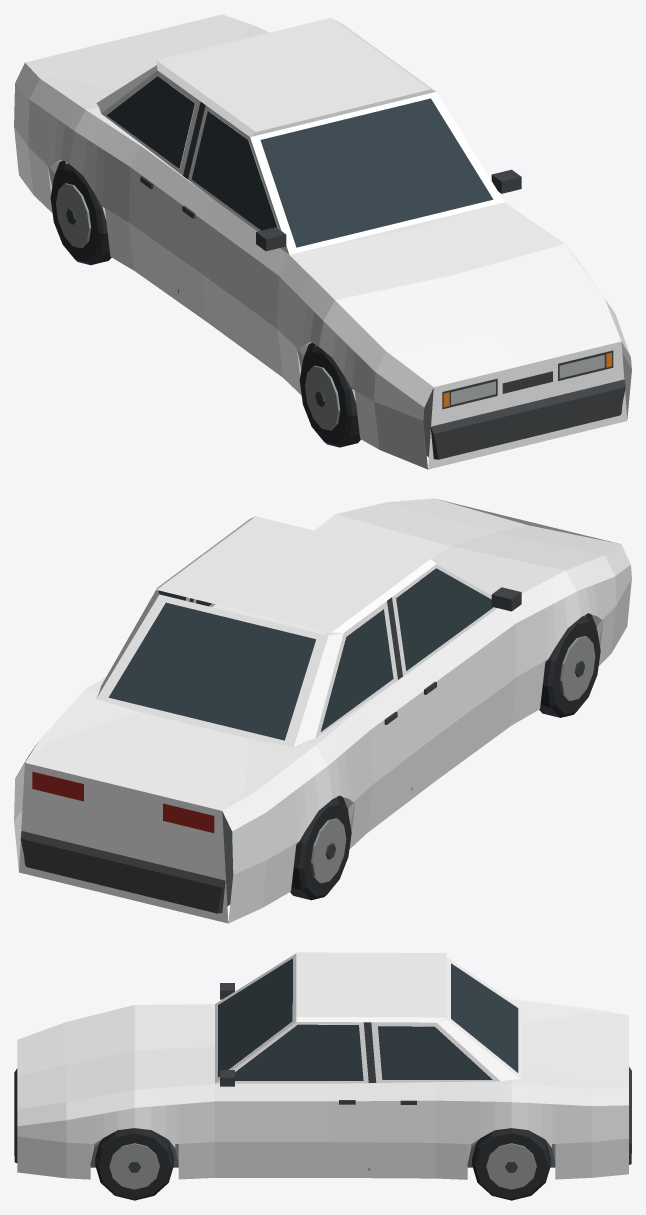
Rendered from varenna_ghiaia.glb.
The picture shows the model from 3 angles, top to bottom: view 1: azimuth 30°, elevation 25°; view 2: azimuth 150°, elevation 25°; view 3: azimuth 270°, elevation 25°; orthographic projection. The views are drawn at different scales.
Parts seen in each view (by area): view 1: varenna_ghiaia; view 2: varenna_ghiaia; view 3: varenna_ghiaia.
Boxes of the visible parts, <box> form: varenna_ghiaia: <box>14,14,631,469</box>; varenna_ghiaia: <box>14,498,631,923</box>; varenna_ghiaia: <box>14,952,631,1200</box>.
Size of the model in its own units: 1.82 by 1.49 by 4.9.
8 materials, 1 textured.
